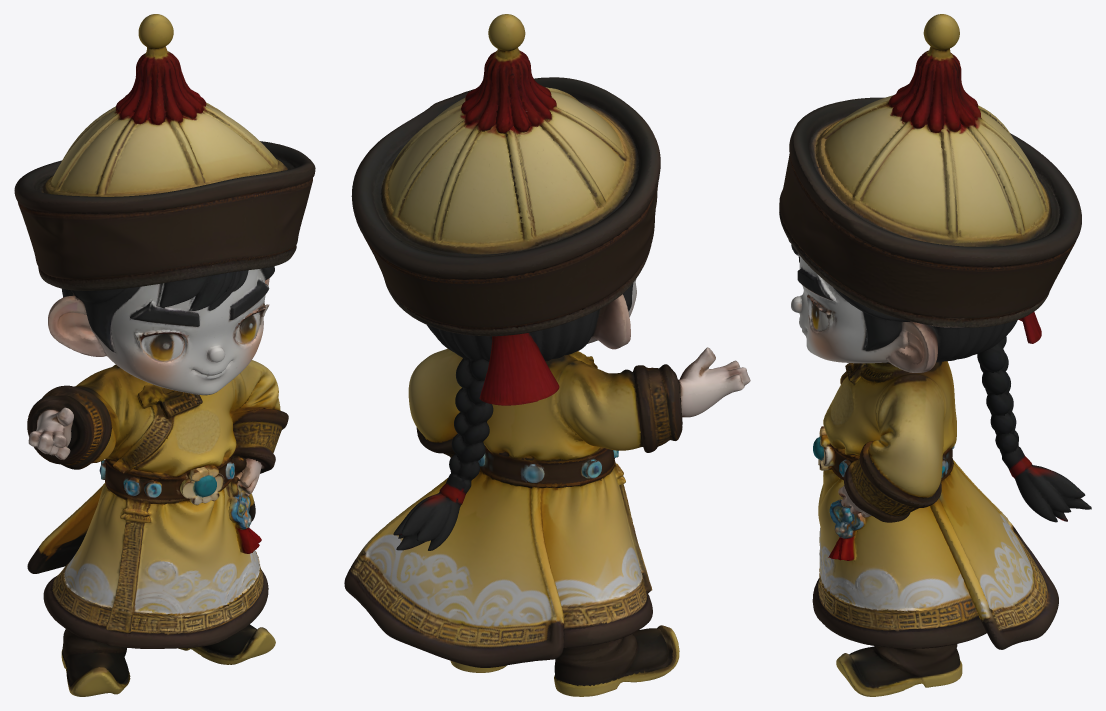
The model's file is jiangger.glb.
3 renders of one model, left to right at view 1: azimuth 30°, elevation 25°; view 2: azimuth 150°, elevation 25°; view 3: azimuth 270°, elevation 25°, orthographic. The views are drawn at different scales.
Size of the model in its own units: 1.4 by 2.7 by 1.19.
Materials: 1 (1 with a texture image).
